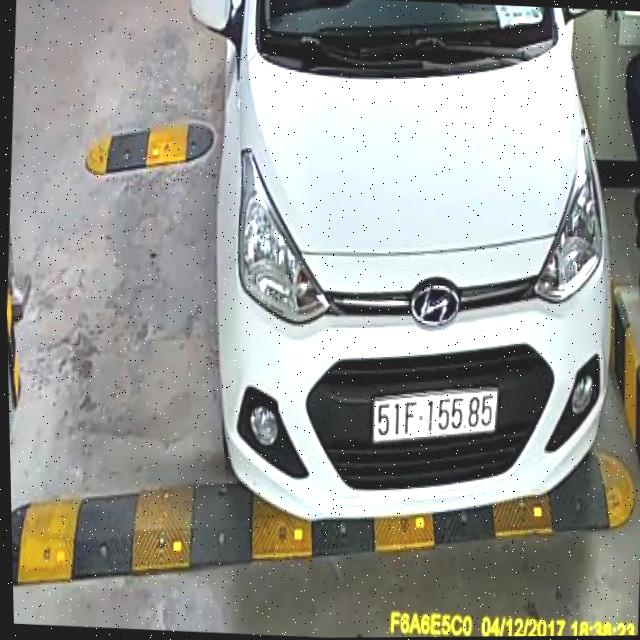car: (152, 0, 633, 536)
plate: (372, 381, 500, 451)
